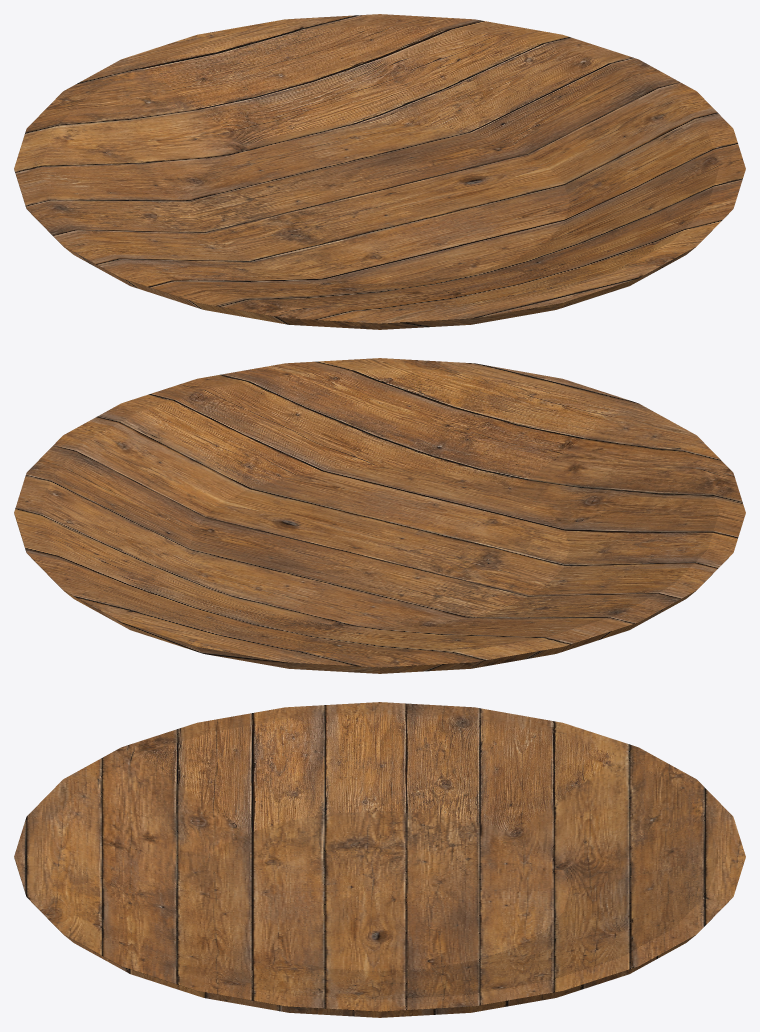
The model's file is wooden-plate-v01.glb.
The picture shows the model from 3 angles, top to bottom: view 1: azimuth 30°, elevation 25°; view 2: azimuth 150°, elevation 25°; view 3: azimuth 270°, elevation 25°; orthographic projection.
Visible parts, largest first — view 1: wooden-plate; view 2: wooden-plate; view 3: wooden-plate.
Part boxes in pixels (left/top/right/bottom): wooden-plate: left=14, top=14, right=745, bottom=329; wooden-plate: left=14, top=358, right=745, bottom=673; wooden-plate: left=14, top=702, right=745, bottom=1017.
Bounding box in the file's own units: 0.5393 × 0.04 × 0.5393.
1 material, 1 textured.
